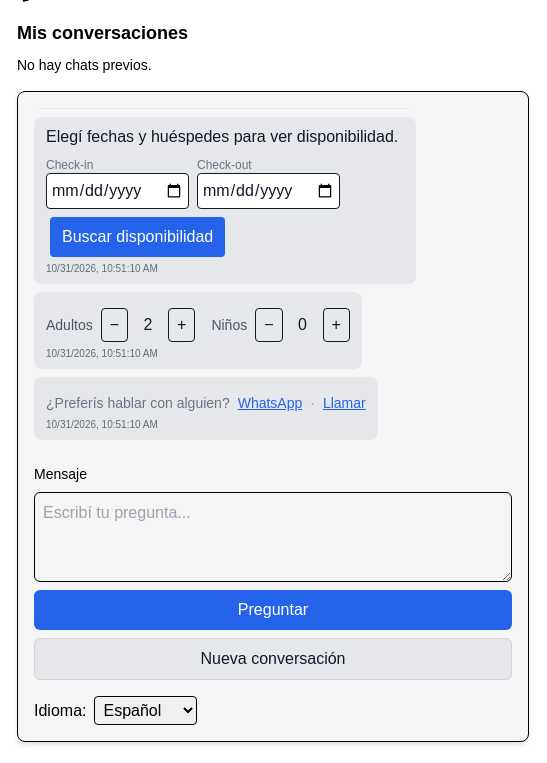
Test case: ChatPage • FAQ front-end flow › renders, sends a question, and shows the FAQ answer
The image size is (547, 763).
(page scrolled)
Note: Type user question
Type "How do I get an invoice with Tax ID?" into the text box labelled "Mensaje" at x=273, y=537, box [34,492,512,582]
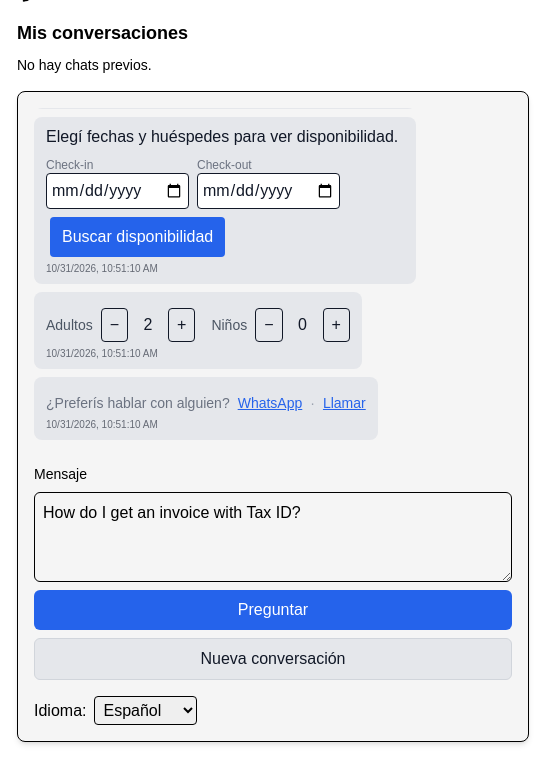
Click the button "Preguntar" at x=273, y=610, box [34,590,512,630]
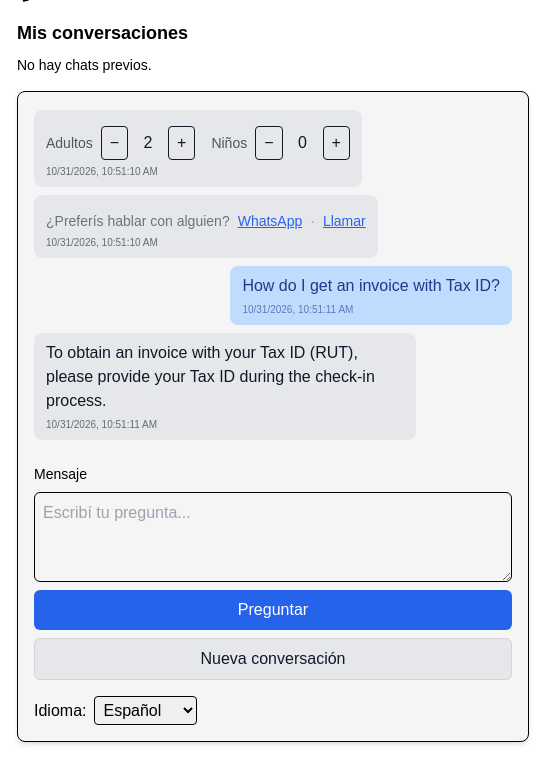
Check: the text "How do I get an invoice with Tax ID?" is shown, box [242,274,500,298]
Check: the text "provide your Tax ID during the check-in process" is shown, box [46,344,375,409]
